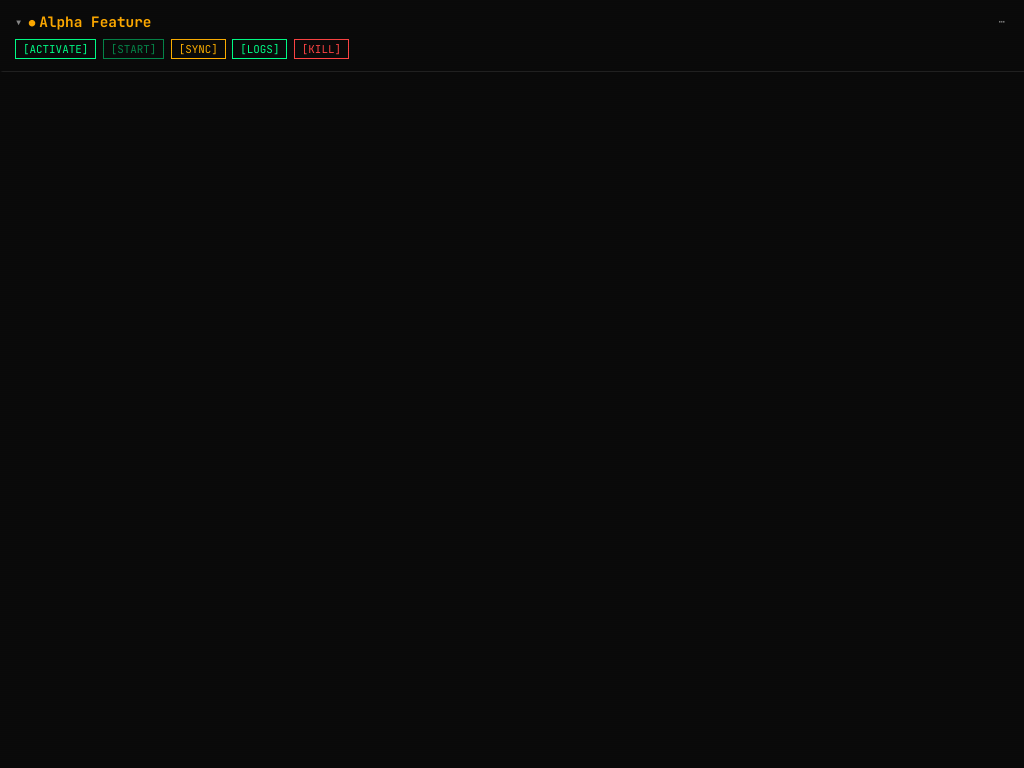
Test case: FeatureCard — config menu › modal body renders the worktree path when worktreePath is set
Click the button named "Open Alpha Feature configuration" at (1002, 22), box left=991, top=14, right=1012, bottom=29
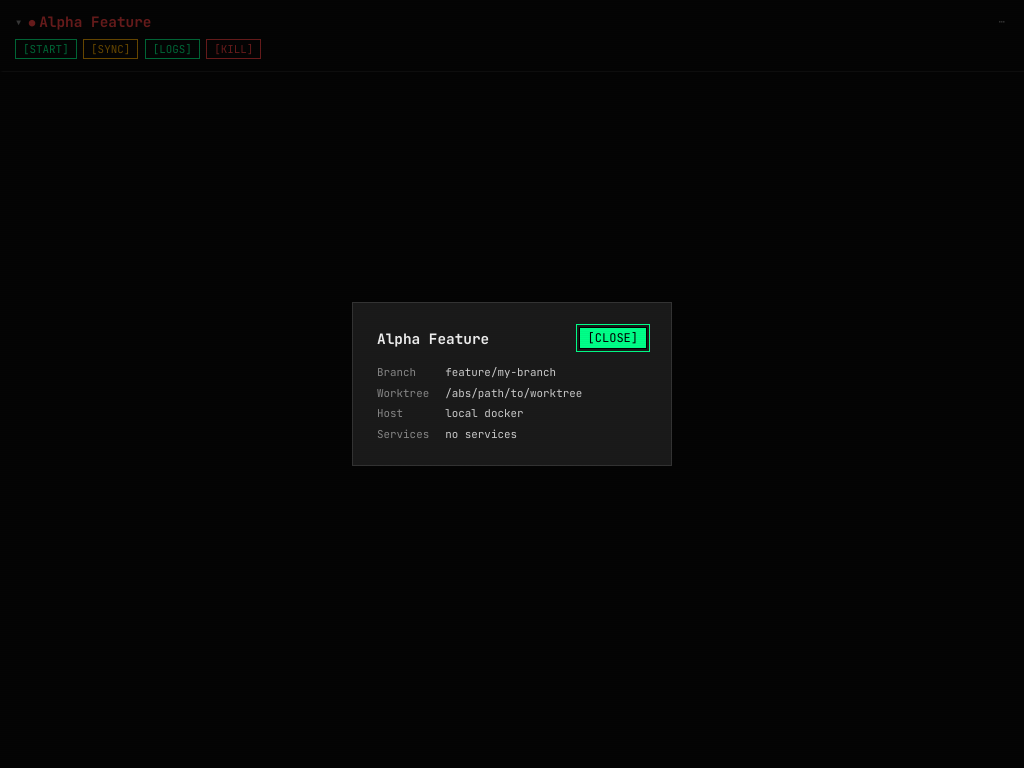
Result: the text "Worktree" is shown at left=377, top=386, right=429, bottom=400
Result: the text "/abs/path/to/worktree" is shown at left=445, top=386, right=582, bottom=400
